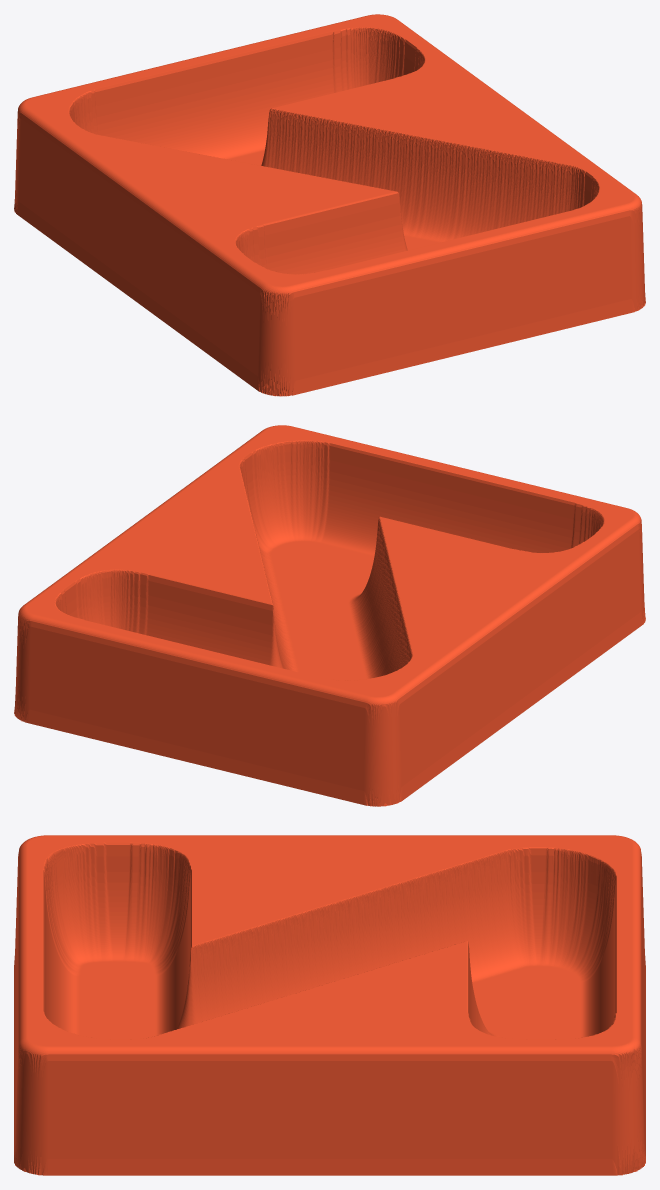
File: mold.glb
The picture shows the model from 3 angles, top to bottom: view 1: azimuth 30°, elevation 25°; view 2: azimuth 150°, elevation 25°; view 3: azimuth 270°, elevation 25°; orthographic projection. The views are drawn at different scales.
Parts seen in each view (by area): view 1: geometry_0; view 2: geometry_0; view 3: geometry_0.
Boxes of the visible parts, x1,y1,x2,y2 form: geometry_0: [14, 14, 645, 396]; geometry_0: [14, 425, 645, 806]; geometry_0: [14, 835, 645, 1175].
Size of the model in its own units: 0.1401 by 0.0365 by 0.1689.
